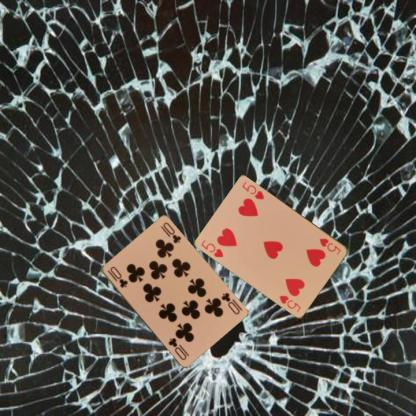10c: (104, 263, 129, 289), (218, 290, 241, 316)
5h: (199, 237, 225, 259), (317, 236, 342, 256)
